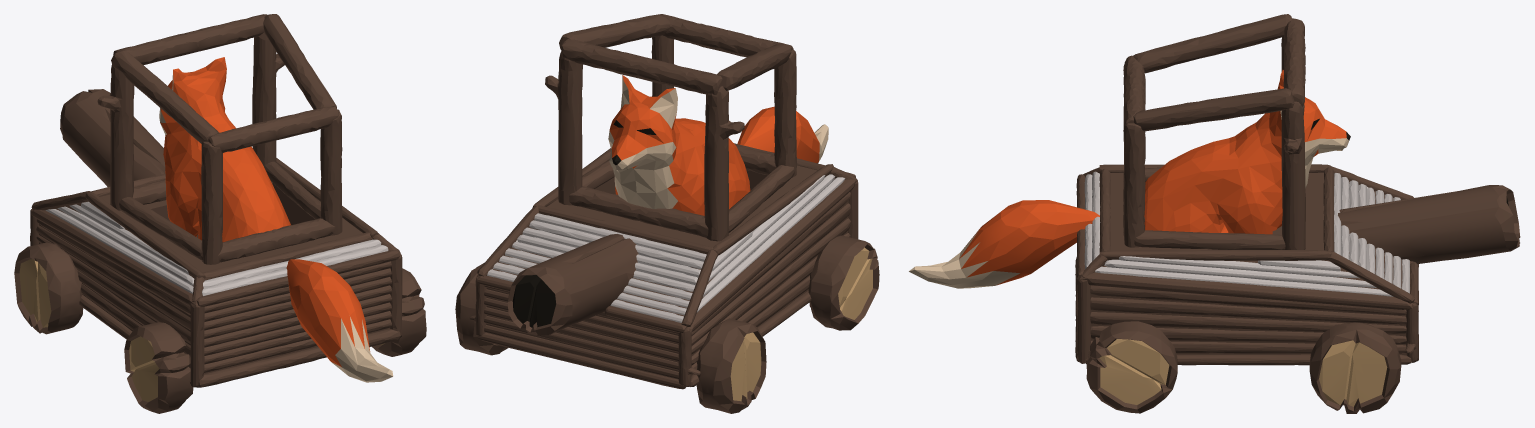
Rendered from fox.FBX.
The picture shows the model from 3 angles, left to right: view 1: azimuth 30°, elevation 25°; view 2: azimuth 150°, elevation 25°; view 3: azimuth 270°, elevation 25°; orthographic projection. The views are drawn at different scales.
Parts seen in each view (by area): view 1: fox_tank, fox, Group65431; view 2: fox_tank, fox, Group65431; view 3: fox_tank, fox, Group65431.
Part boxes in pixels (x1,y1,x2,y2): fox_tank: (14,14,426,413); fox: (159,57,393,382); Group65431: (45,201,388,295); fox_tank: (455,14,879,413); fox: (608,75,828,215); Group65431: (487,174,845,322); fox_tank: (1075,14,1520,413); fox: (909,70,1350,288); Group65431: (1084,171,1409,296).
Bounding box in the file's own units: 21.64 × 22.61 × 42.13.
2 materials, 2 textured.
